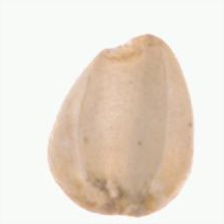L1: (99, 33, 172, 60), (80, 202, 160, 218)
L2: (47, 34, 194, 217)
